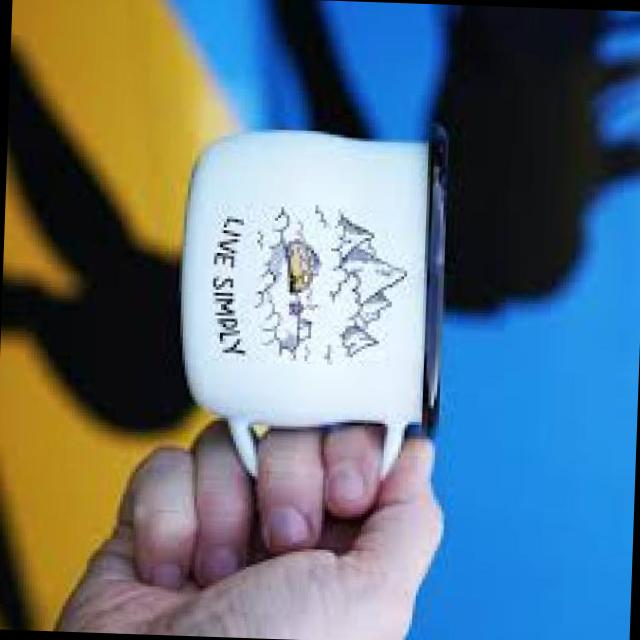Coffee Mug: (171, 111, 453, 484)
